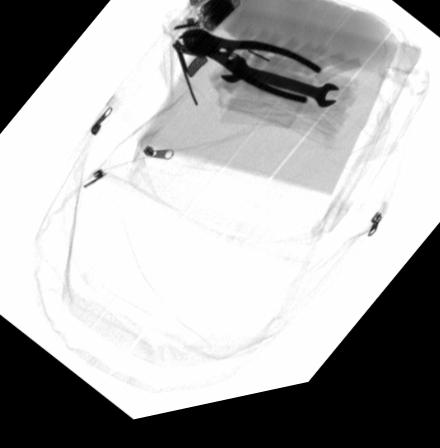Pliers: (179, 38, 322, 117)
Wrench: (218, 65, 338, 122)
